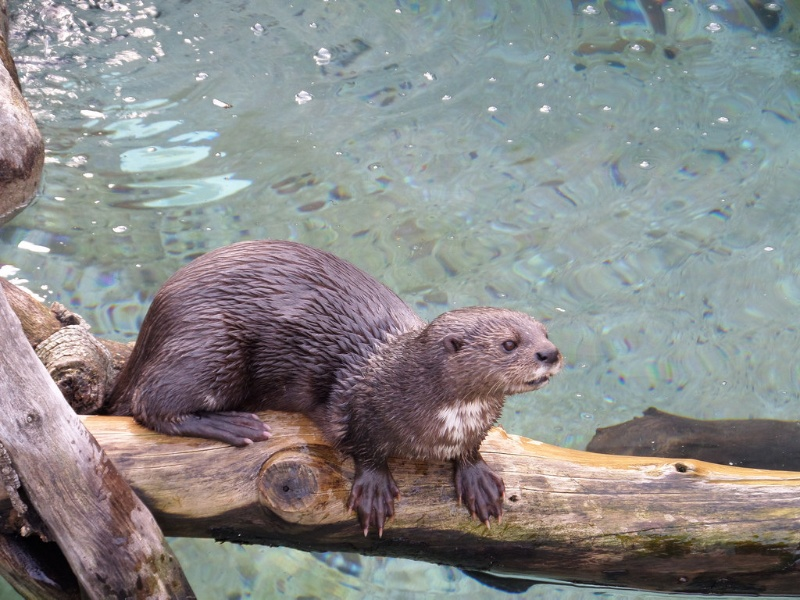minkish: (105, 230, 570, 530)
